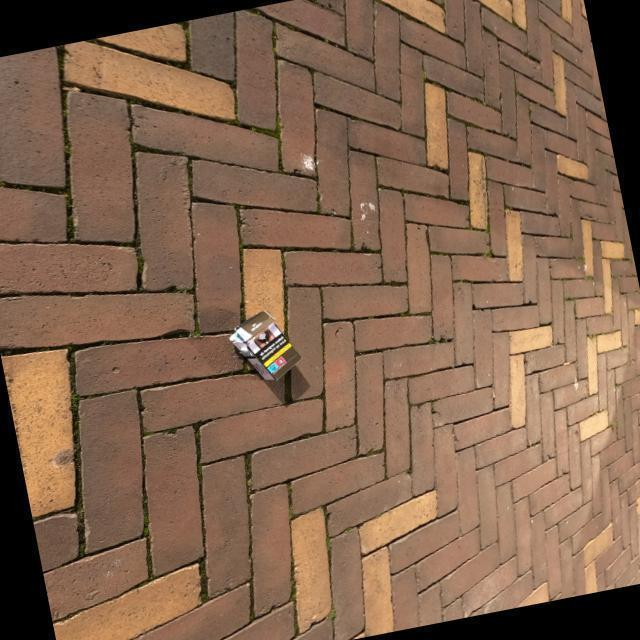Paper: (226, 309, 304, 384)
